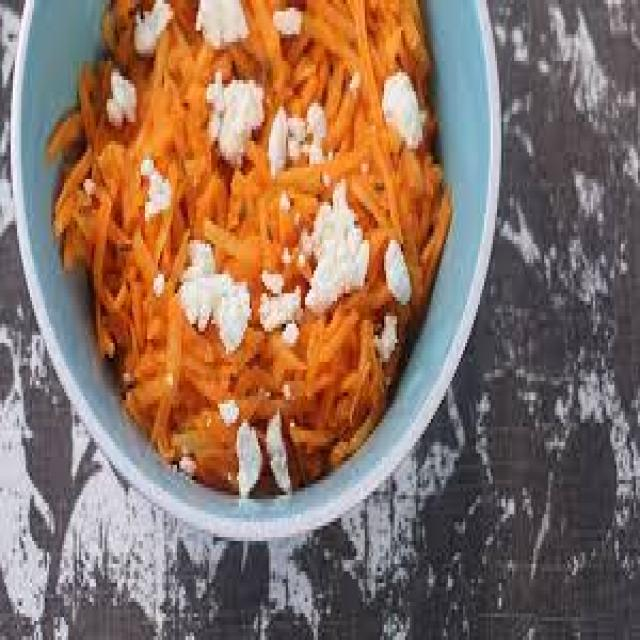Stale_Carrot: (62, 34, 330, 361)
